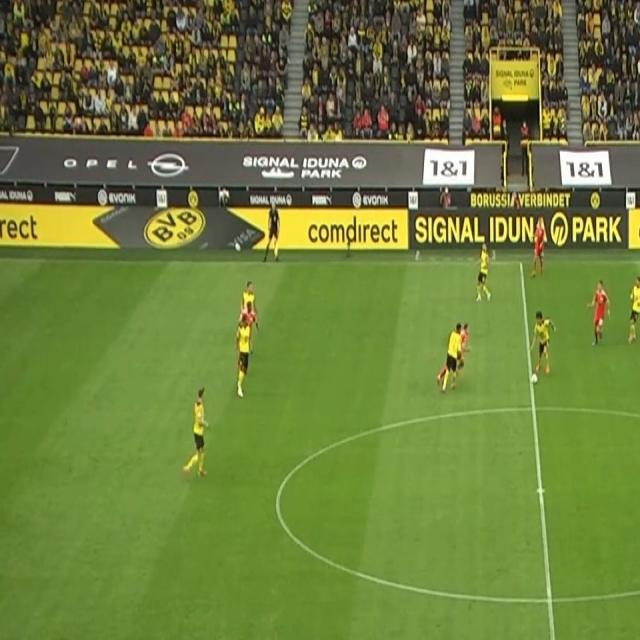ball: (530, 372, 538, 386)
